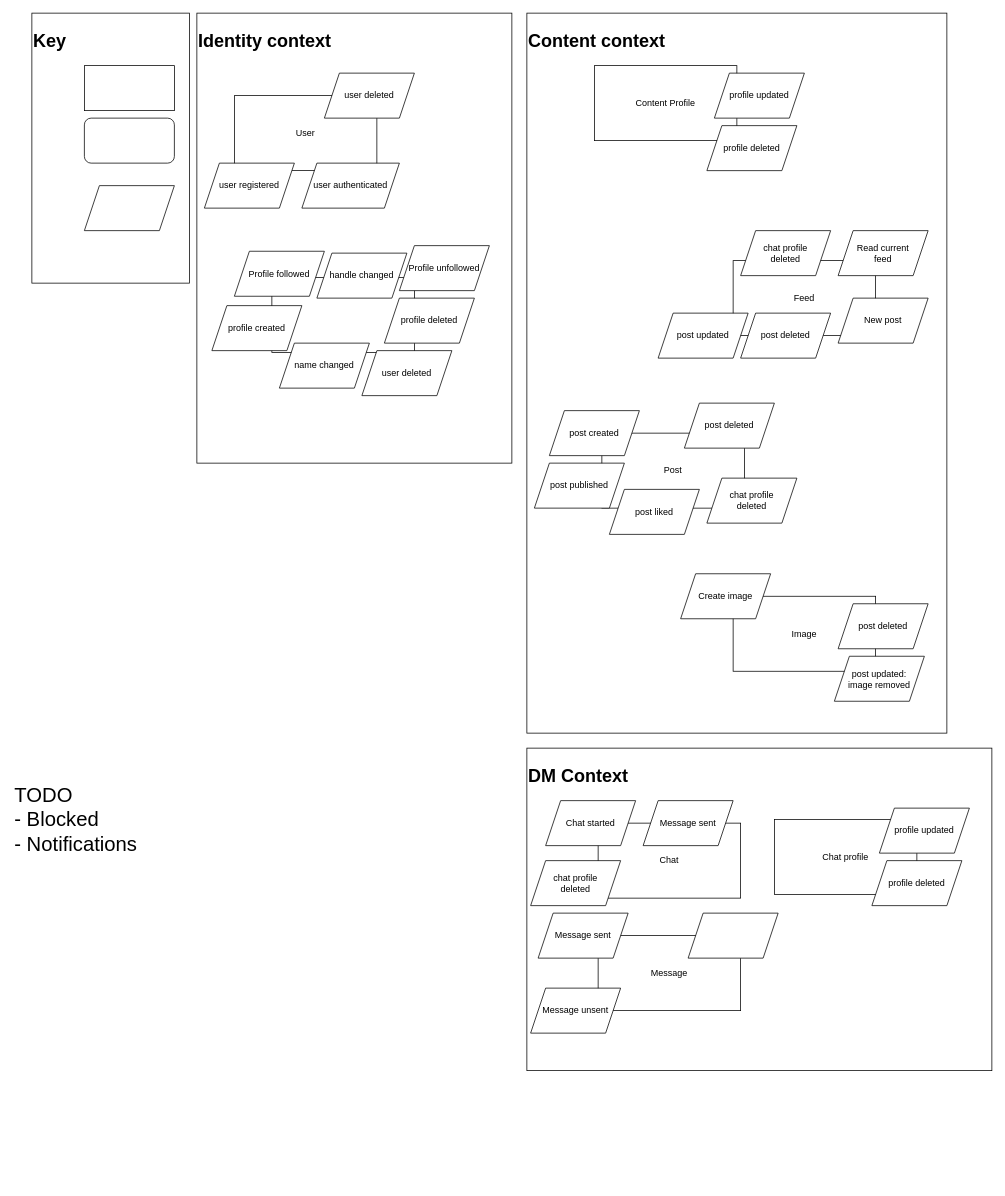
Some shapes in this 1005 by 1196 pixel diagram are drawn without their labels. Each missing label, with the centre of its shape:
"chat deleted" goes at (732,935).
"Entity" goes at (129,88).
"Event" goes at (129,208).
"Profile" goes at (342,314).
"Value object" goes at (129,140).
